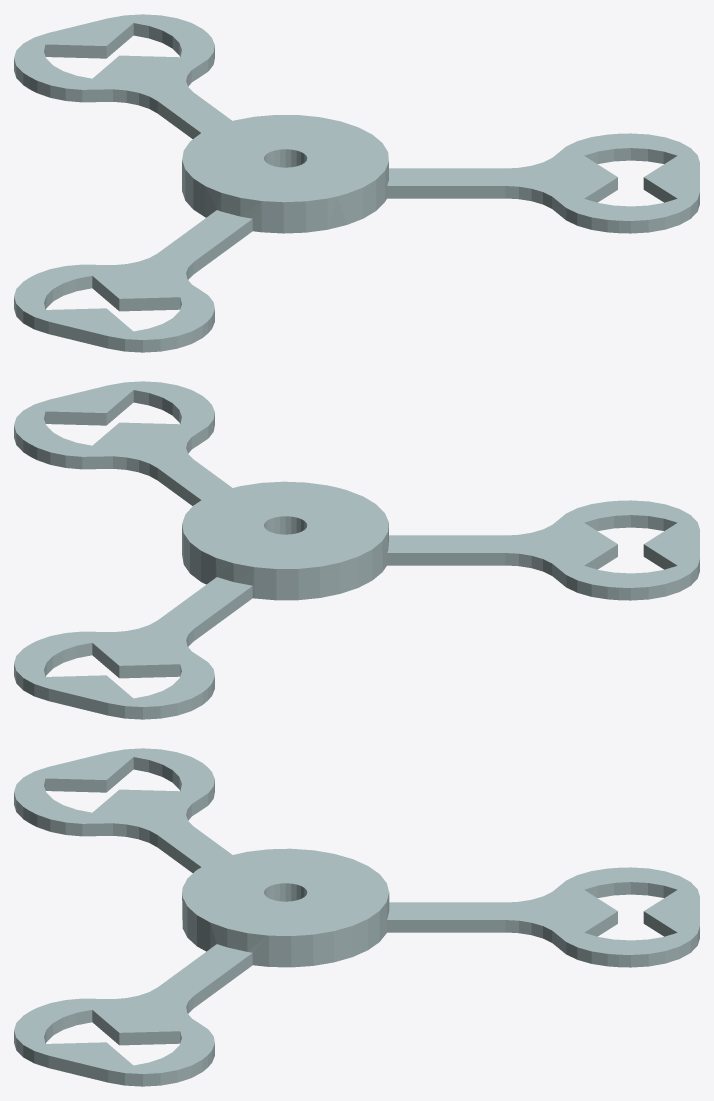
File: intermedio.glb
The picture shows the model from 3 angles, top to bottom: view 1: azimuth 30°, elevation 25°; view 2: azimuth 150°, elevation 25°; view 3: azimuth 270°, elevation 25°; orthographic projection.
Visible parts, largest first — view 1: soporte elice intermedio; view 2: soporte elice intermedio; view 3: soporte elice intermedio.
Boxes of the visible parts, <box> form: soporte elice intermedio: <box>14,14,699,352</box>; soporte elice intermedio: <box>14,381,699,719</box>; soporte elice intermedio: <box>14,748,699,1086</box>.
Bounding box in the file's own units: 0.1116 × 0.005 × 0.0993.
